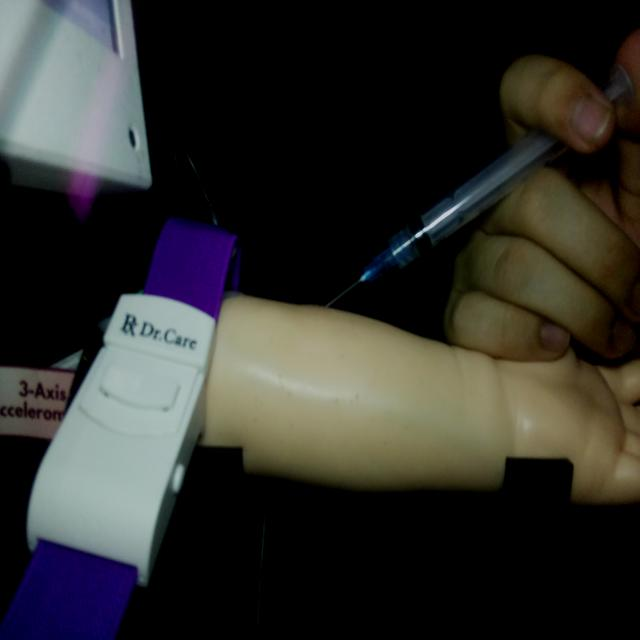29 degrees: (326, 56, 635, 307)
